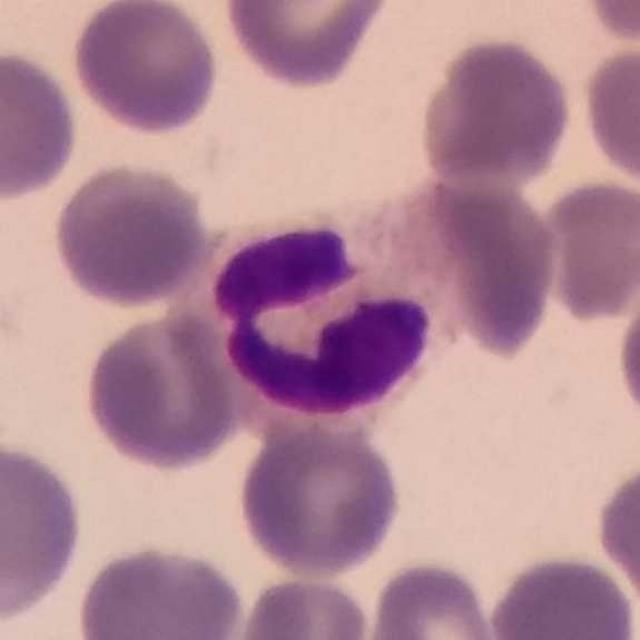Neutrophil: (170, 188, 470, 446)
RBC: (373, 172, 563, 360), (234, 415, 406, 581), (79, 305, 243, 474), (48, 158, 216, 311), (415, 32, 577, 187), (68, 0, 224, 138), (72, 538, 249, 640), (0, 436, 89, 627), (217, 0, 396, 93), (532, 174, 640, 326), (484, 550, 640, 640), (0, 44, 83, 203), (361, 554, 508, 640), (577, 36, 640, 197), (232, 572, 376, 640), (592, 456, 640, 619), (612, 264, 640, 446), (575, 0, 640, 49)
